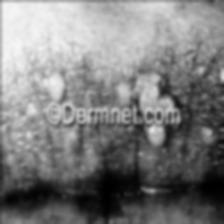Toxin: (0, 132, 224, 210), (0, 30, 224, 102)
